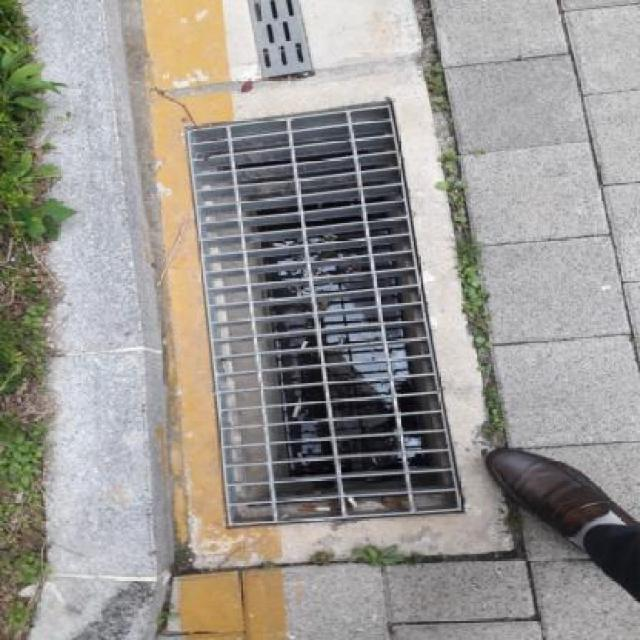Drain Hole: (157, 107, 486, 532)
